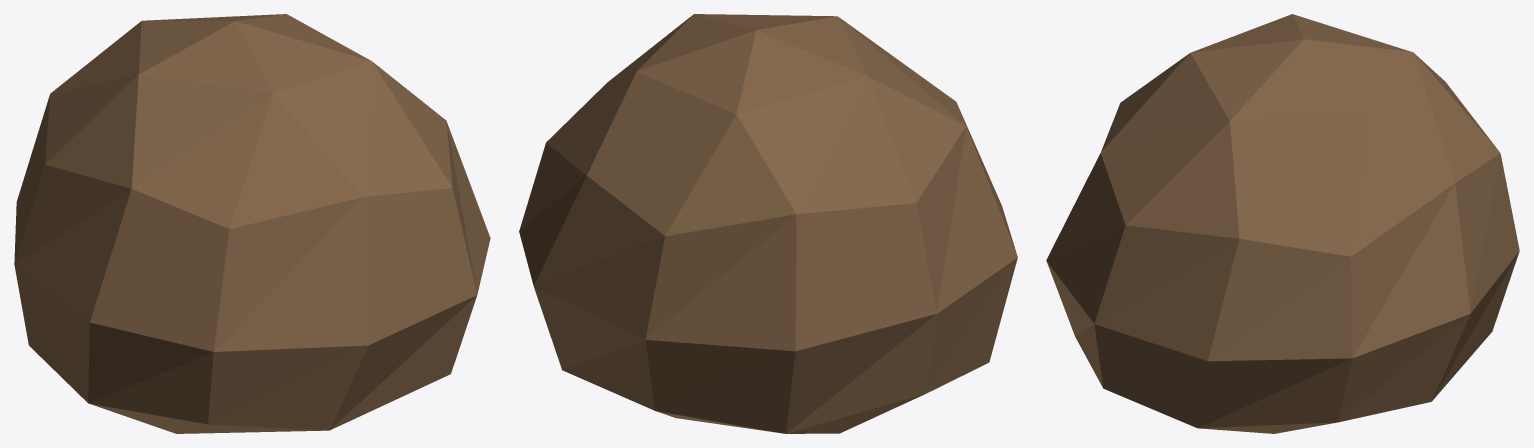
Rendered from Meatball.fbx.
3 renders of one model, left to right at view 1: azimuth 30°, elevation 25°; view 2: azimuth 150°, elevation 25°; view 3: azimuth 270°, elevation 25°, orthographic. The views are drawn at different scales.
Visible parts, largest first — view 1: Icosphere; view 2: Icosphere; view 3: Icosphere.
Part boxes in pixels (x1,y1,x2,y2): Icosphere: (14, 14, 490, 433); Icosphere: (519, 14, 1017, 433); Icosphere: (1046, 14, 1519, 433).
Bounding box in the file's own units: 180 × 154 × 187.
